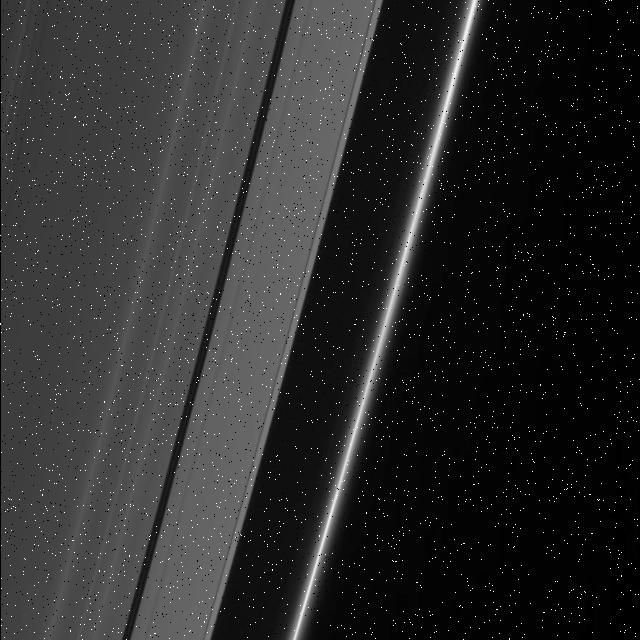Saturn: (0, 0, 491, 640)
